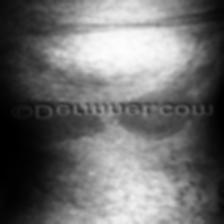Toxin: (19, 116, 106, 140), (120, 116, 192, 139), (141, 88, 197, 103)
